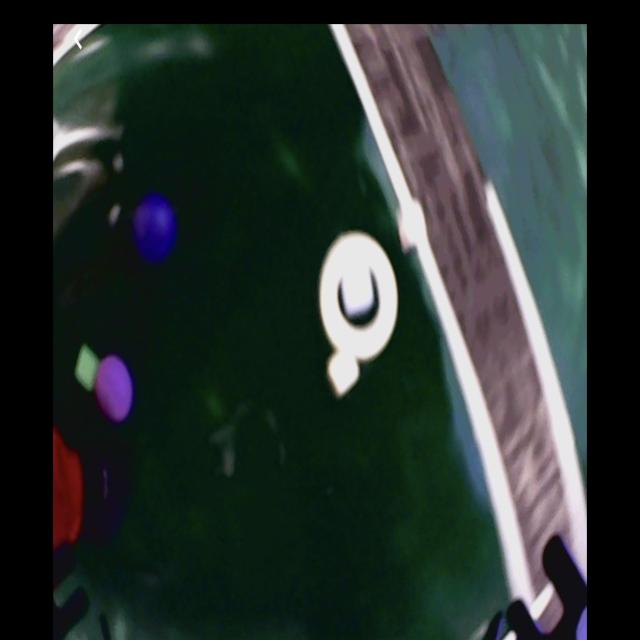ball: (97, 355, 133, 426), (136, 198, 175, 263)
